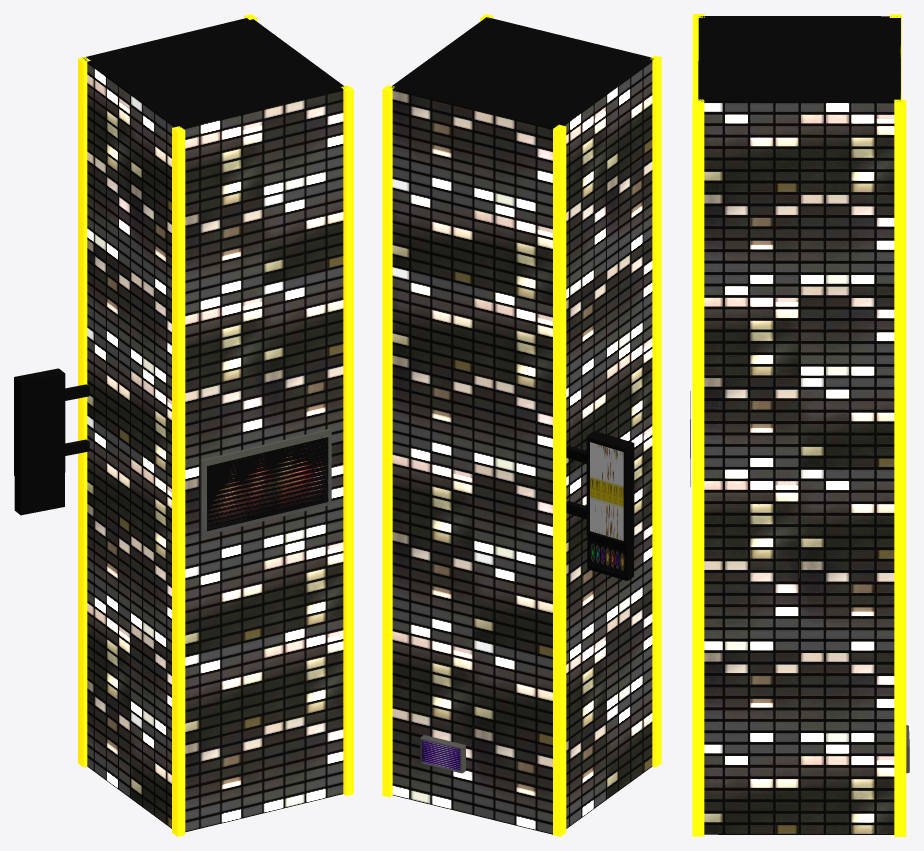
Rendered from BLD1310002.fbx.
3 renders of one model, left to right at view 1: azimuth 30°, elevation 25°; view 2: azimuth 150°, elevation 25°; view 3: azimuth 270°, elevation 25°, orthographic. The views are drawn at different scales.
Visible parts, largest first — view 1: smBLD1310002; view 2: smBLD1310002; view 3: smBLD1310002.
Part boxes in pixels (x1=…): smBLD1310002: x1=14, y1=14, x2=353, y2=836; smBLD1310002: x1=382, y1=14, x2=661, y2=836; smBLD1310002: x1=690, y1=14, x2=909, y2=836.
Bounding box in the file's own units: 559 × 1561 × 424.
Materials: 5 (5 with a texture image).
